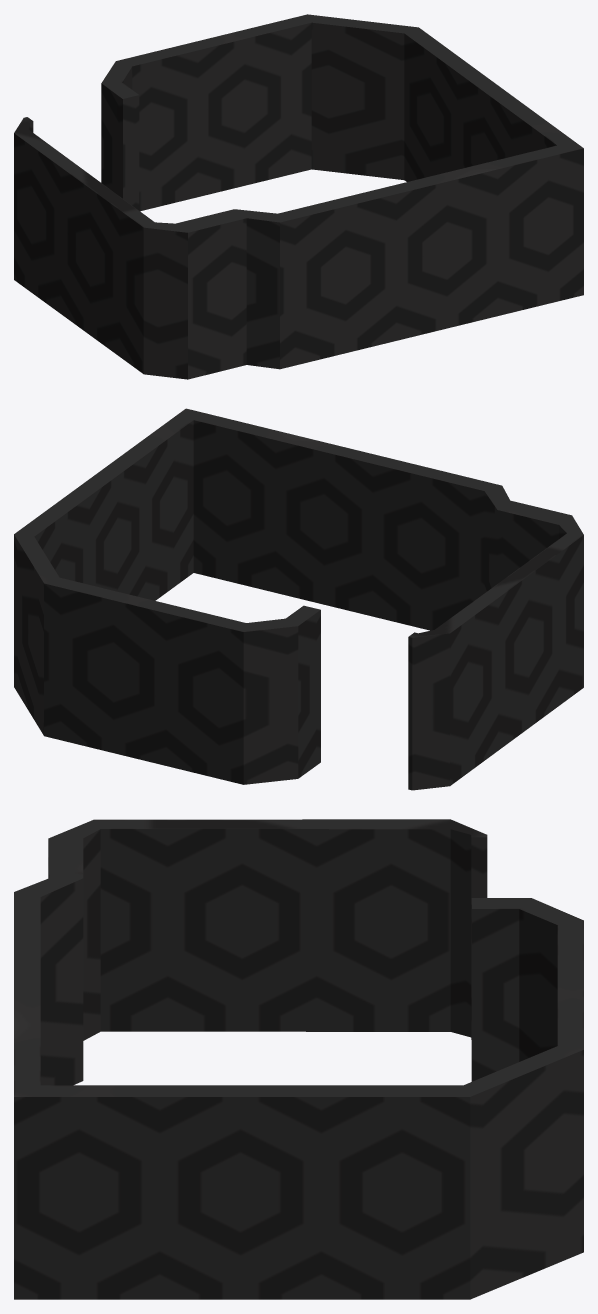
The model's file is walls.fbx.
3 renders of one model, top to bottom at view 1: azimuth 30°, elevation 25°; view 2: azimuth 150°, elevation 25°; view 3: azimuth 270°, elevation 25°, orthographic. The views are drawn at different scales.
Visible parts, largest first — view 1: Cube Walls; view 2: Cube Walls; view 3: Cube Walls.
Part boxes in pixels (bbox=[...]): Cube Walls: bbox=[14, 14, 583, 379]; Cube Walls: bbox=[14, 408, 583, 790]; Cube Walls: bbox=[14, 819, 583, 1299].
Bounding box in the file's own units: 3061 × 1042 × 2656.
